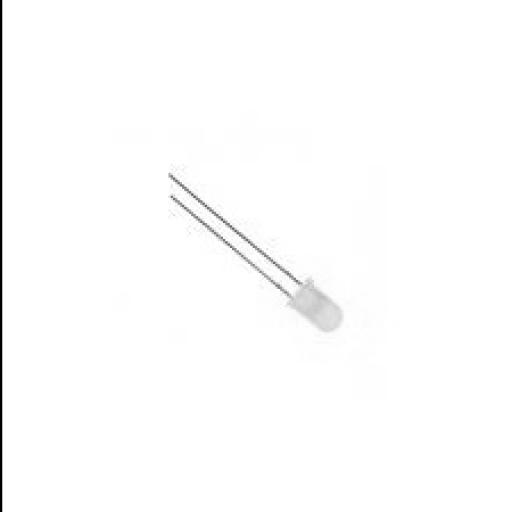LED: (164, 168, 344, 334)
